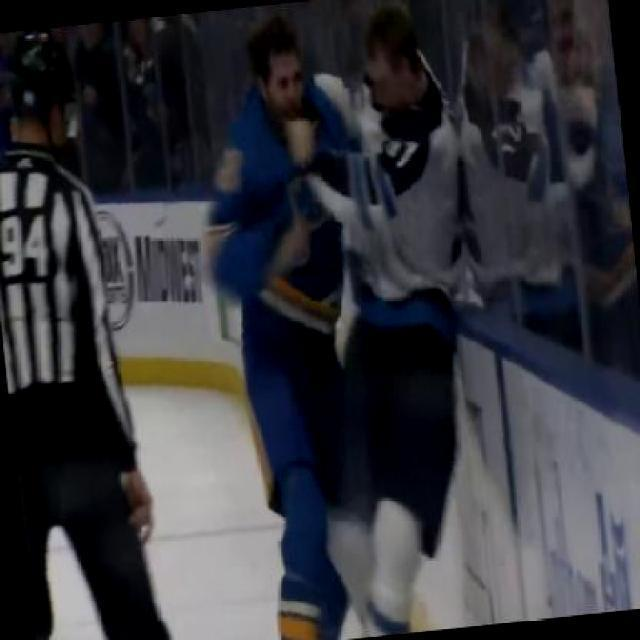fight: (180, 0, 507, 638)
